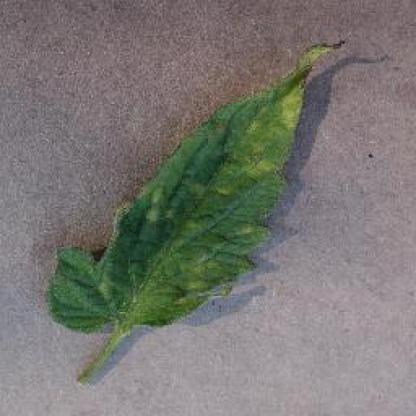Tomato_Leaf_Mold: (49, 38, 341, 330)
